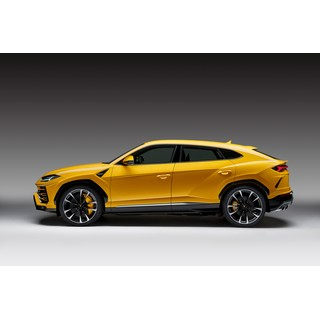car: (32, 140, 296, 226)
